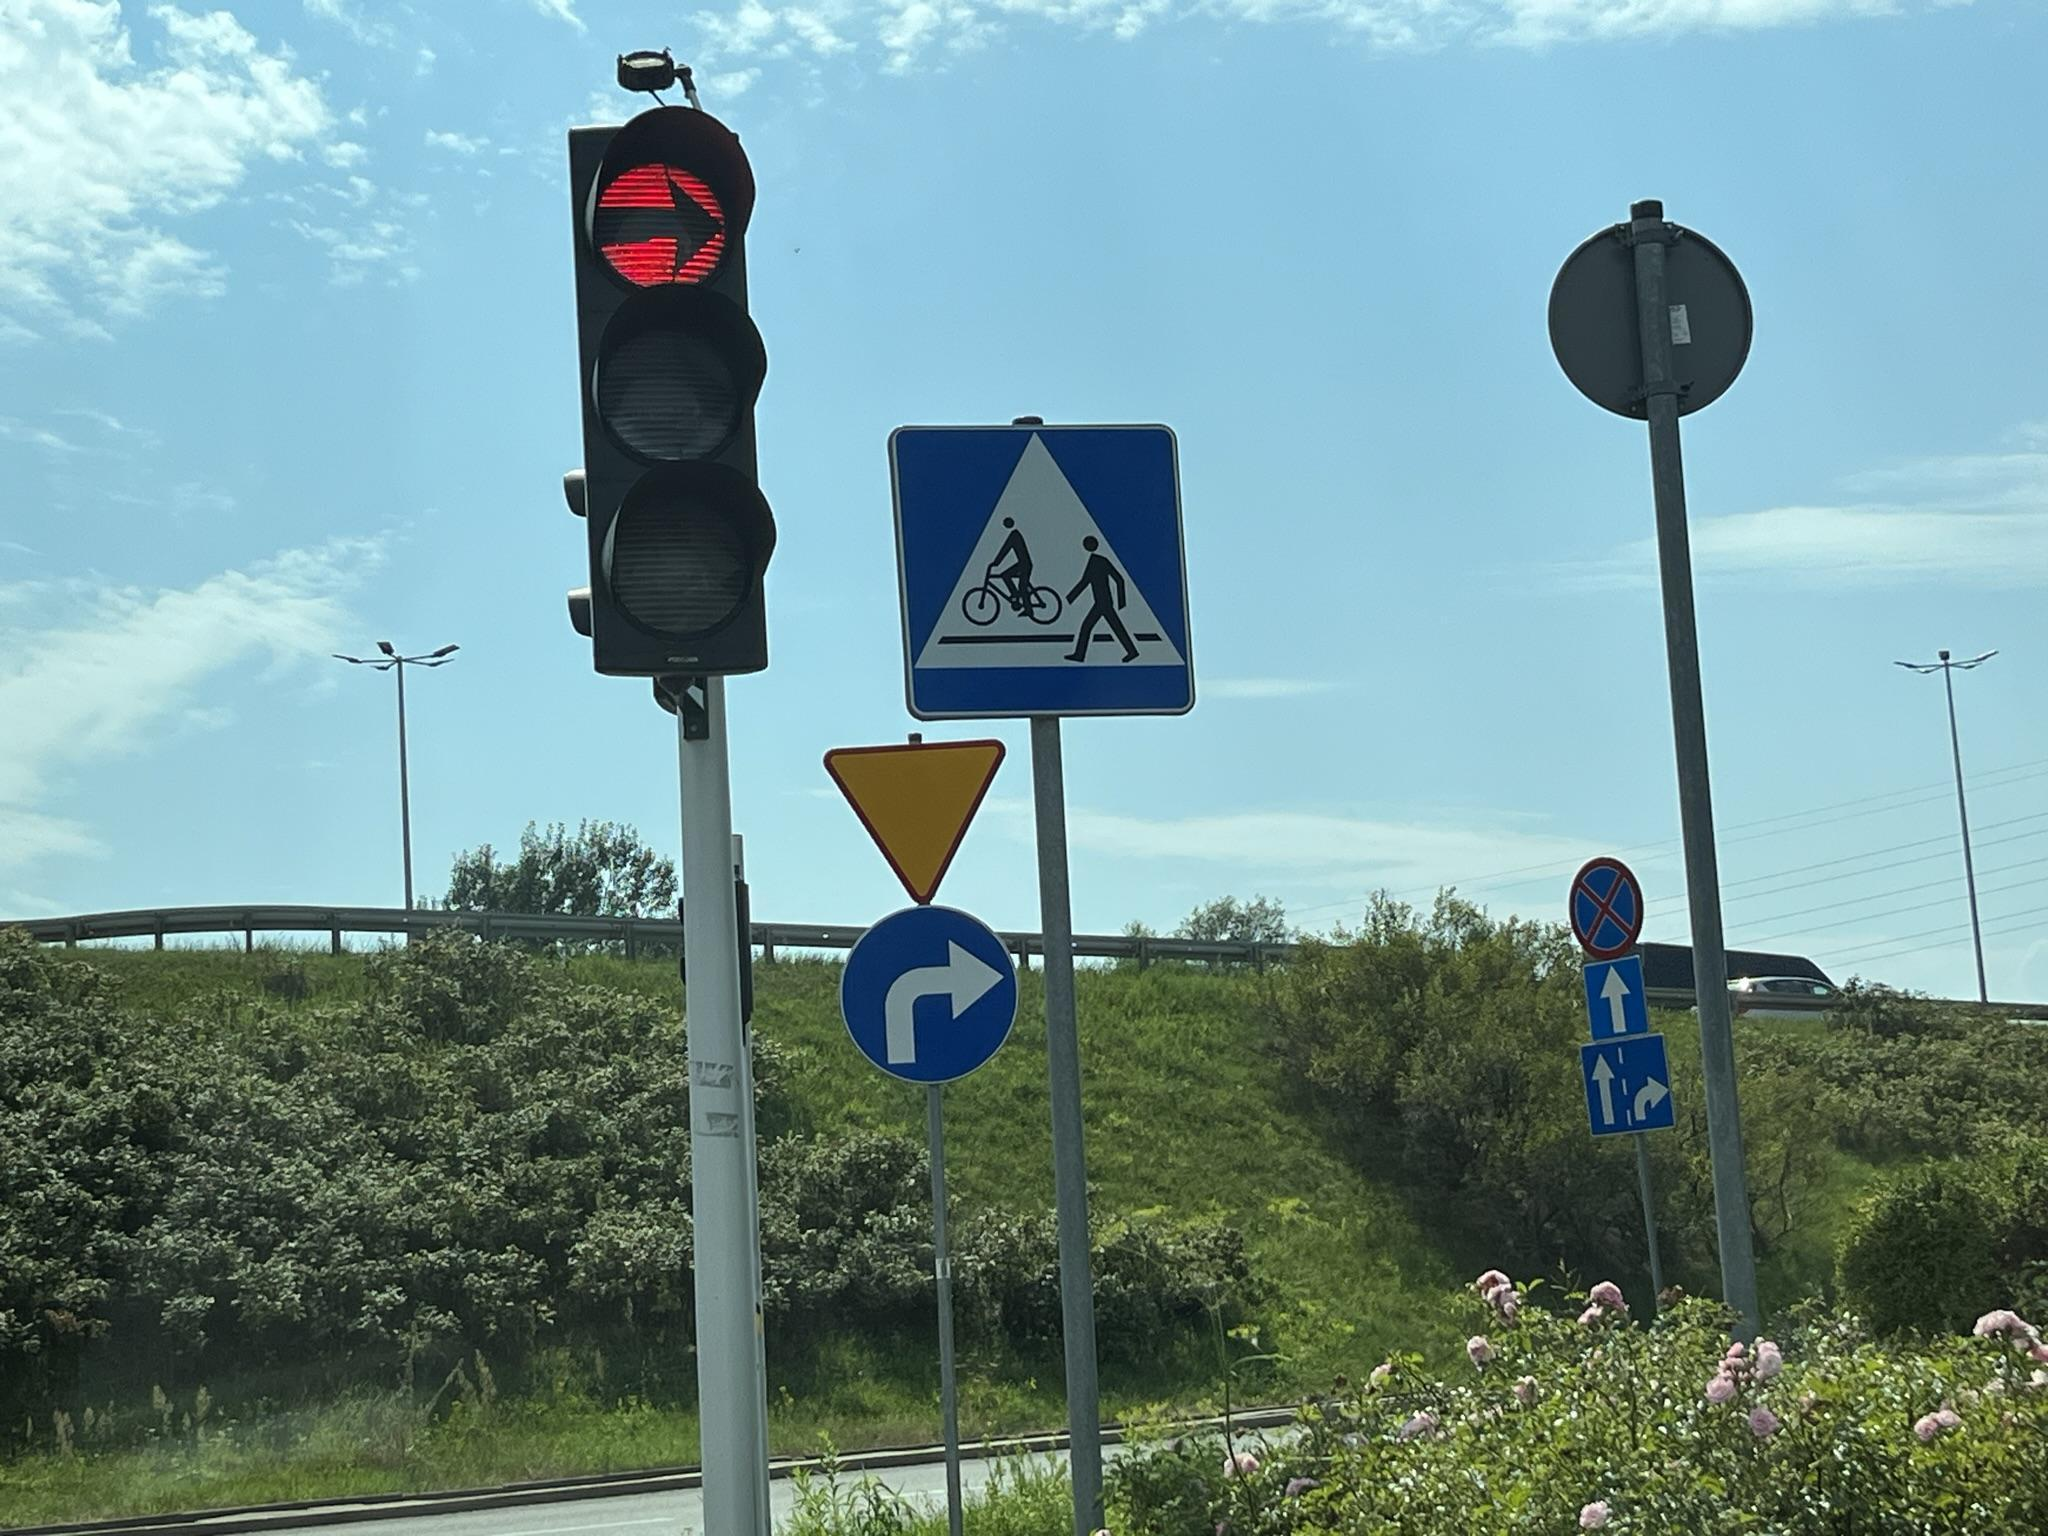information: (884, 418, 1200, 721), (1584, 958, 1650, 1041)
mandatory: (839, 902, 1024, 1084)
other: (1580, 1041, 1674, 1136)
prohibitory: (1567, 855, 1645, 962)
warning: (824, 736, 1009, 908)
